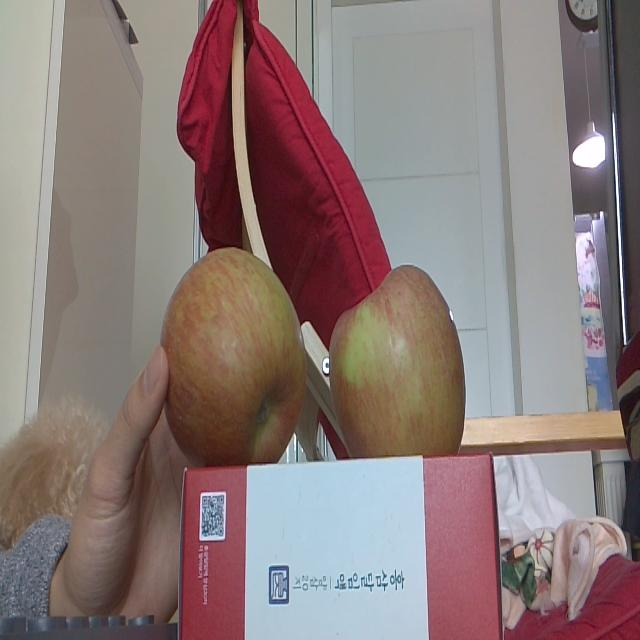apple: (156, 240, 308, 462), (322, 256, 470, 458)
